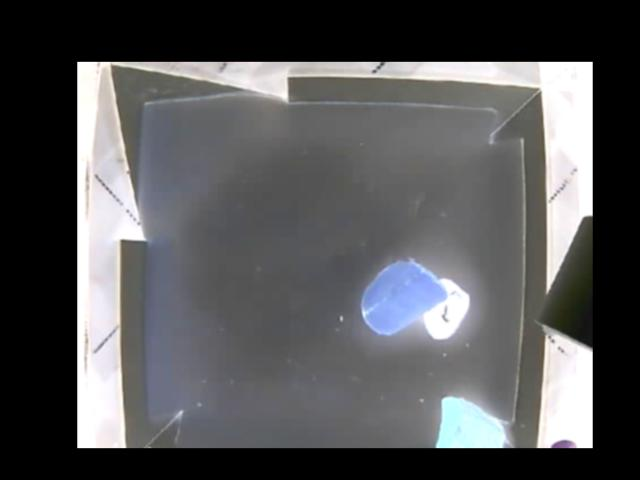Brisk: (434, 396, 504, 447)
Pebble: (424, 275, 468, 340)
Potato: (358, 261, 442, 335)
